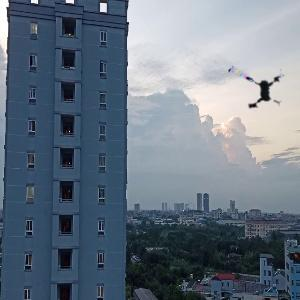drone: (223, 59, 289, 125)
